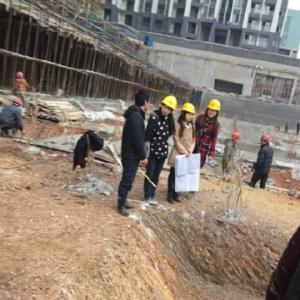none: (134, 88, 153, 113)
red: (232, 131, 241, 146), (260, 135, 271, 147)
yellow: (161, 95, 179, 119), (182, 102, 197, 125), (207, 99, 222, 120)
